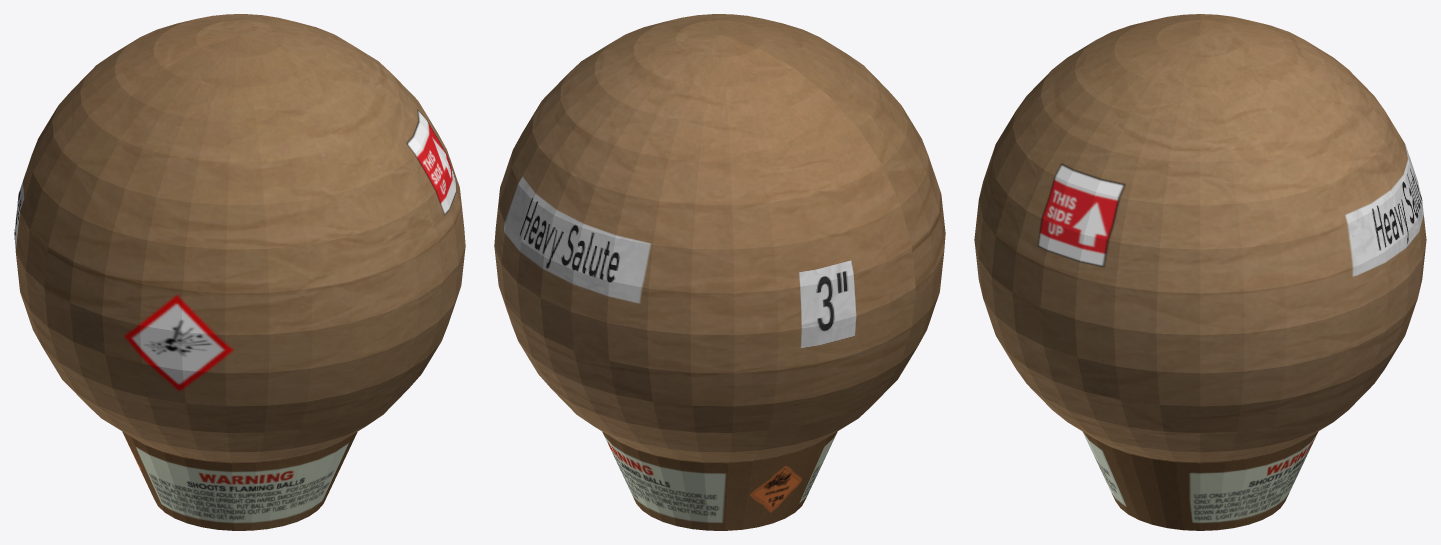
Rendered from Shell Ball 3 Inch HeavySalute.fbx.
3 views of the same model, side by side, from view 1: azimuth 30°, elevation 25°; view 2: azimuth 150°, elevation 25°; view 3: azimuth 270°, elevation 25° (orthographic).
Parts seen in each view (by area): view 1: Sphere; view 2: Sphere; view 3: Sphere.
Boxes of the visible parts, box(x1,y1,x2,y2) form: Sphere: box(14, 14, 465, 530); Sphere: box(494, 14, 945, 530); Sphere: box(974, 14, 1426, 530).
Size of the model in its own units: 14 by 16.23 by 14.
